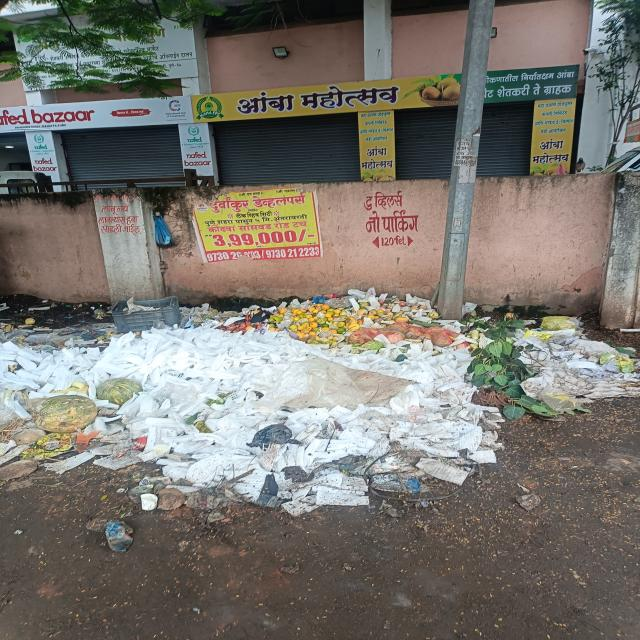garbage: (3, 297, 640, 498)
